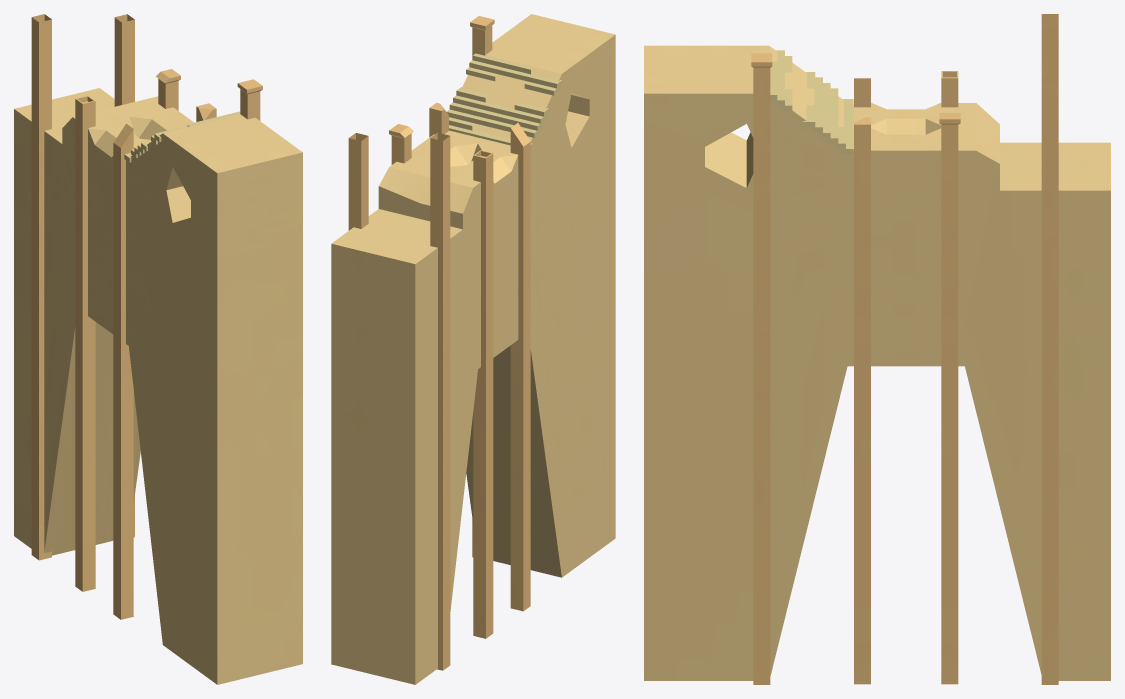
Rendered from Structure01-Old.fbx.
3 renders of one model, left to right at view 1: azimuth 30°, elevation 25°; view 2: azimuth 150°, elevation 25°; view 3: azimuth 270°, elevation 25°, orthographic. The views are drawn at different scales.
Parts seen in each view (by area): view 1: Structure01-Old; view 2: Structure01-Old; view 3: Structure01-Old.
Part boxes in pixels (x1,y1,x2,y2): Structure01-Old: [14, 14, 302, 684]; Structure01-Old: [331, 14, 615, 684]; Structure01-Old: [644, 14, 1110, 684].
Size of the model in its own units: 1514 by 8077 by 5479.
